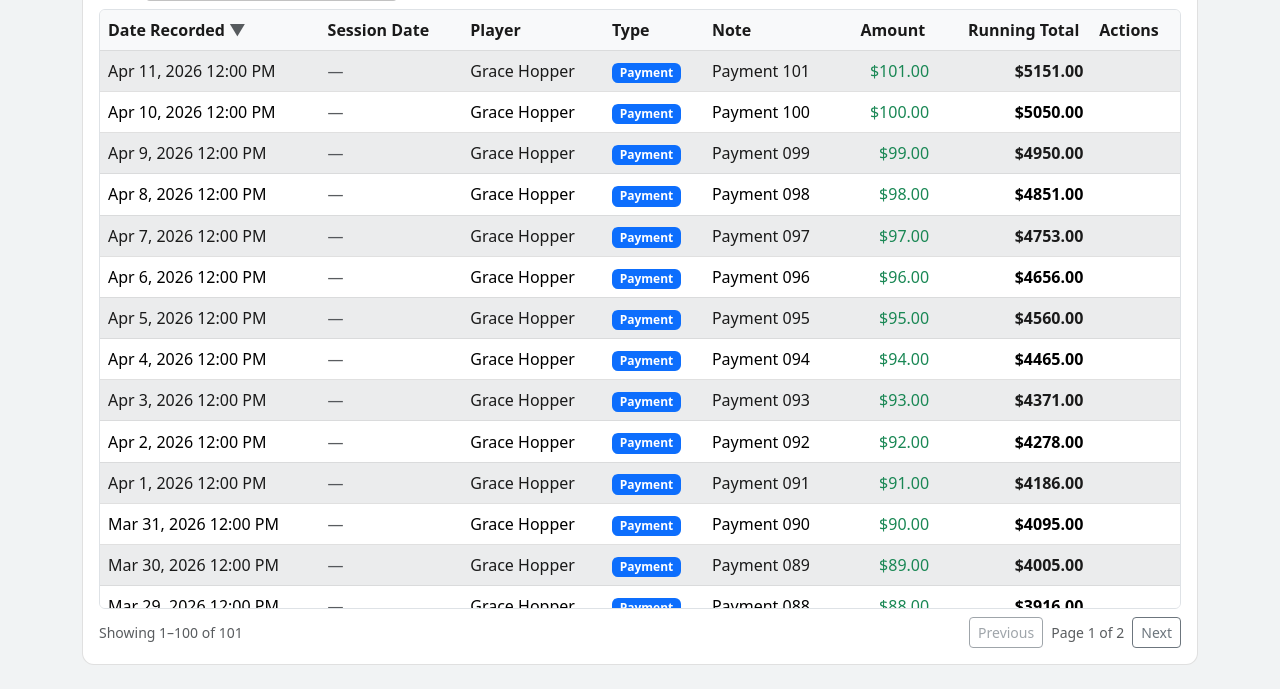
Scenario: PayoutPage › paginates the ledger when there are more than 100 visible rows
(page scrolled)
Expected: the text "Payment 101" is shown, [704, 50, 838, 92]
Expected: the text "Showing 1–100 of 101" is shown, [99, 622, 243, 643]
Click the button "Next".
click(1157, 632)  # box [1132, 617, 1181, 648]
(page scrolled)
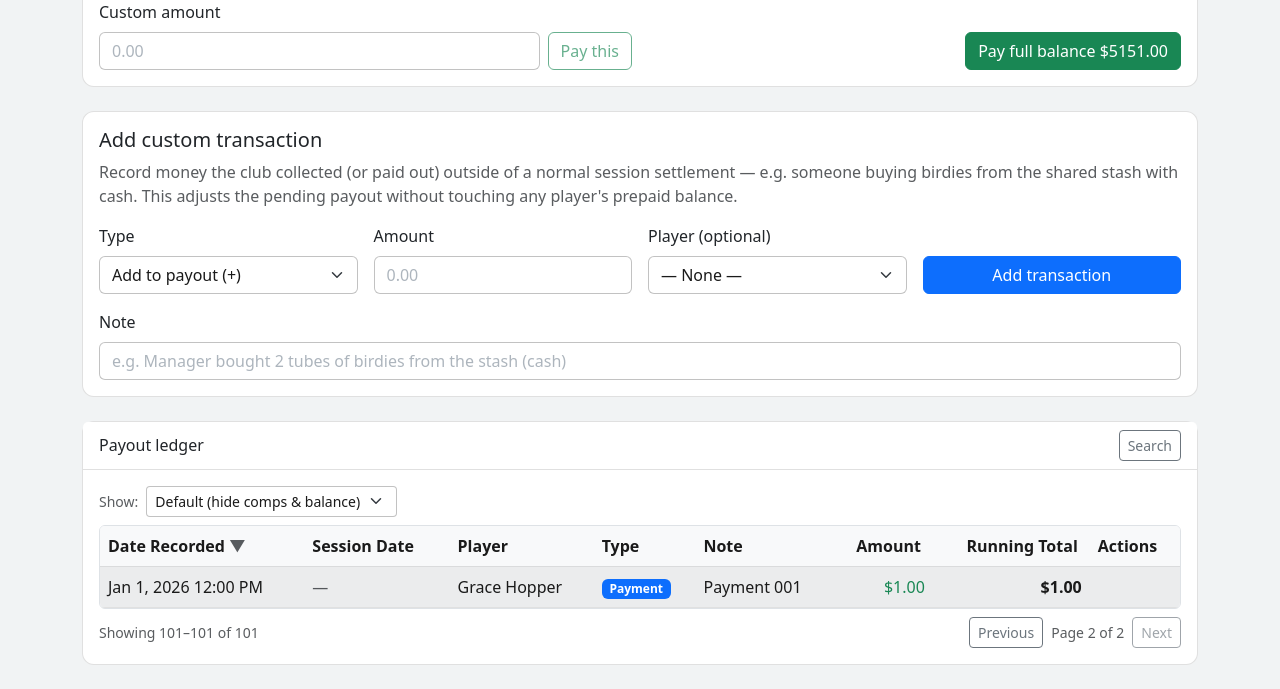
Expected: the text "Payment 001" is shown, [696, 566, 832, 608]
Expected: the text "Showing 101–101 of 101" is shown, [99, 622, 259, 643]
Expected: the text "Page 2 of 2" is shown, [1051, 622, 1124, 643]
Click the button "Previous".
click(1006, 632)  # box [969, 617, 1043, 648]
(page scrolled)
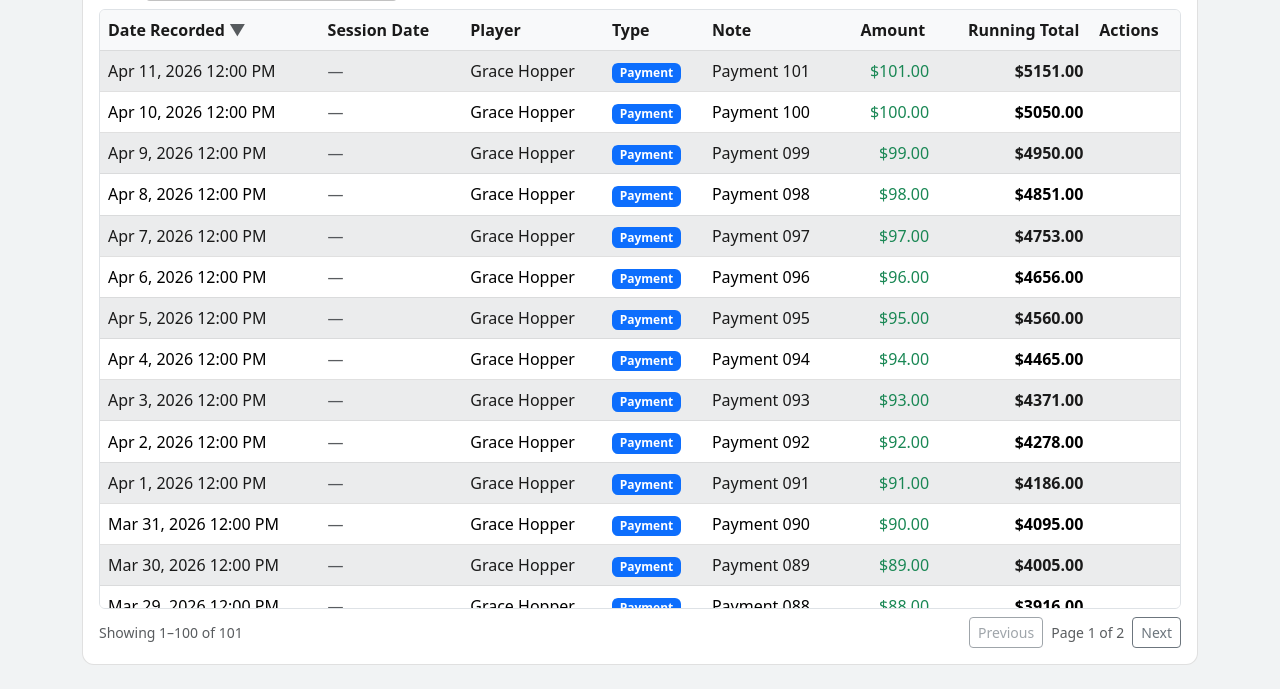
Expected: the text "Payment 101" is shown, [704, 50, 838, 92]
Expected: the text "Page 1 of 2" is shown, [1051, 622, 1124, 643]
